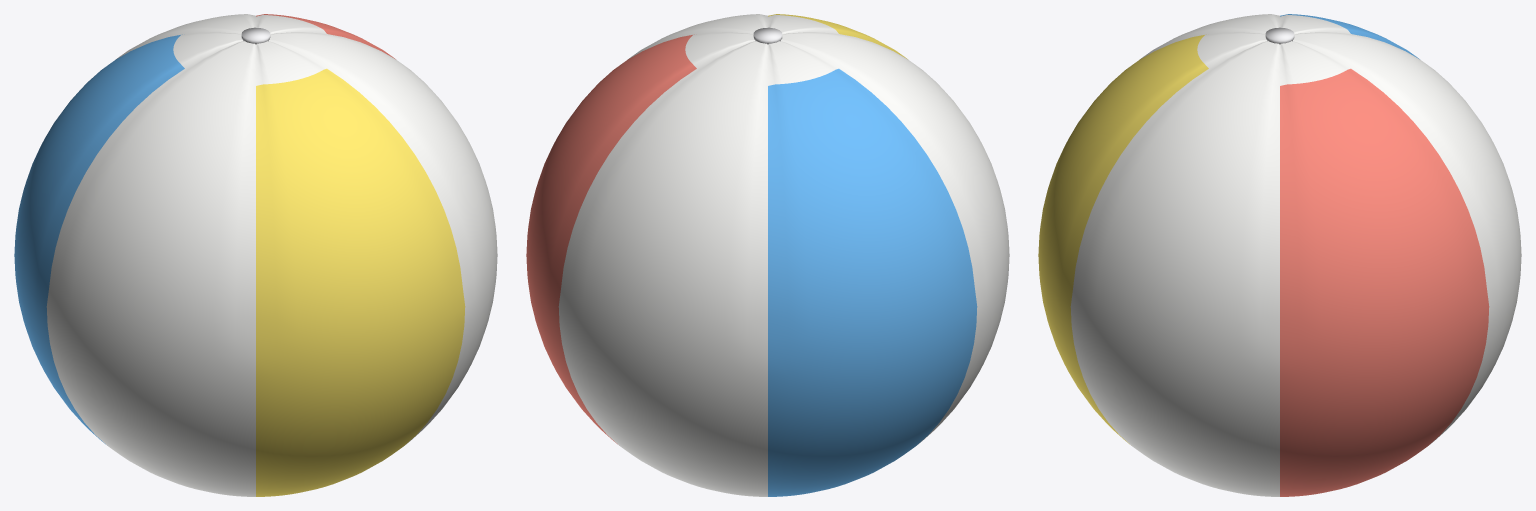
Rendered from beach_ball.glb.
The picture shows the model from 3 angles, left to right: view 1: azimuth 30°, elevation 25°; view 2: azimuth 150°, elevation 25°; view 3: azimuth 270°, elevation 25°; orthographic projection.
Visible parts, largest first — view 1: beach_ball; view 2: beach_ball; view 3: beach_ball.
Part boxes in pixels (box(x1,y1,x2,y2)): beach_ball: box(14, 14, 497, 496); beach_ball: box(526, 14, 1009, 496); beach_ball: box(1038, 14, 1521, 496).
Size of the model in its own units: 1 by 1.01 by 1.
